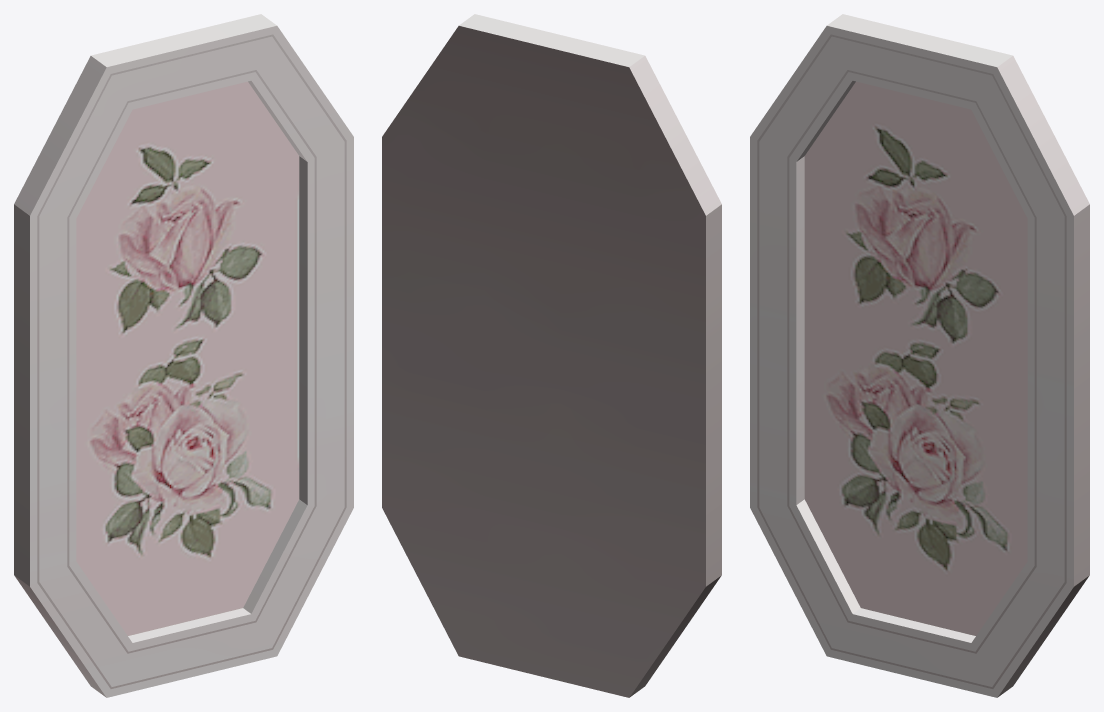
File: Doll_OB_Frame_005.FBX
3 views of the same model, side by side, from view 1: azimuth 30°, elevation 25°; view 2: azimuth 150°, elevation 25°; view 3: azimuth 330°, elevation 25° (orthographic).
Visible parts, largest first — view 1: Doll_OB_Frame_005; view 2: Doll_OB_Frame_005; view 3: Doll_OB_Frame_005.
Boxes of the visible parts, box(x1,y1,x2,y2) form: Doll_OB_Frame_005: box(14, 14, 353, 697); Doll_OB_Frame_005: box(382, 14, 721, 697); Doll_OB_Frame_005: box(750, 14, 1089, 697).
Size of the model in its own units: 14.62 by 27.2 by 1.25.
